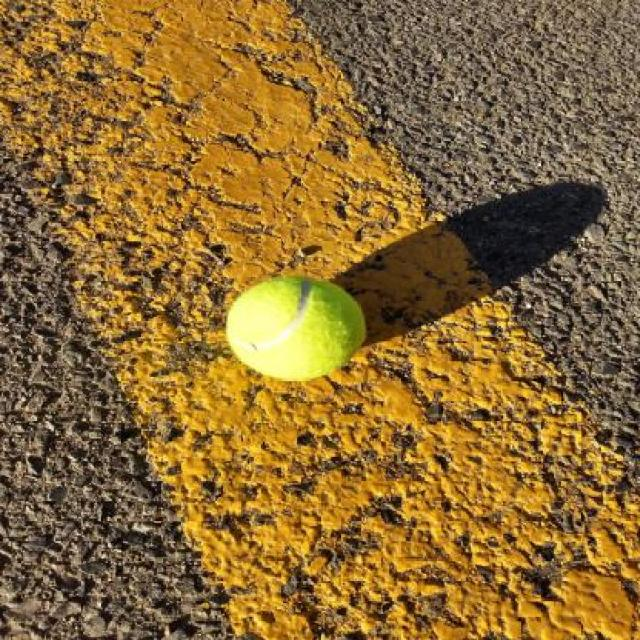tennis-ball: (226, 277, 365, 383)
